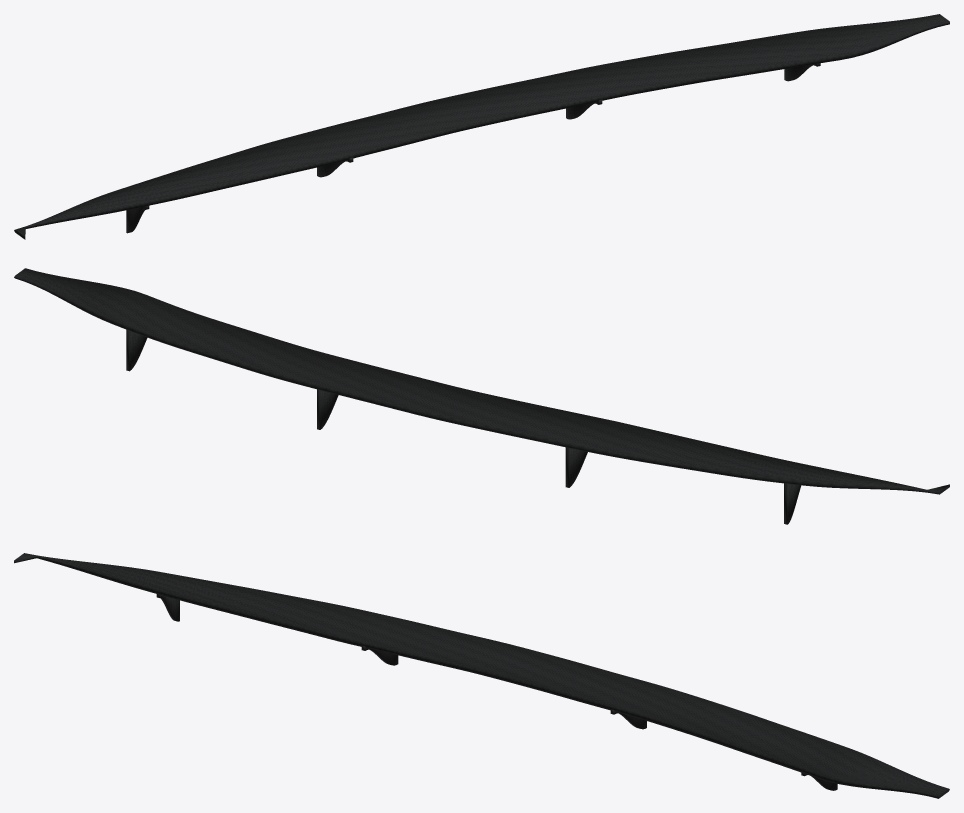
File: RA49_carbon_track_valance.glb
3 views of the same model, one above another, from view 1: azimuth 30°, elevation 25°; view 2: azimuth 150°, elevation 25°; view 3: azimuth 330°, elevation 25° (orthographic).
Visible parts, largest first — view 1: MOD_NA_RA49_blade; view 2: MOD_NA_RA49_blade, MOD_NA_RA49_strake_1, MOD_NA_RA49_strake_3, MOD_NA_RA49_strake_2; view 3: MOD_NA_RA49_blade.
Part boxes in pixels (<box>): MOD_NA_RA49_blade: <box>14,14,949,239</box>; MOD_NA_RA49_blade: <box>14,268,949,494</box>; MOD_NA_RA49_strake_1: <box>565,447,587,487</box>; MOD_NA_RA49_strake_3: <box>126,329,147,371</box>; MOD_NA_RA49_strake_2: <box>317,389,338,429</box>; MOD_NA_RA49_blade: <box>14,553,949,798</box>.
Bounding box in the file's own units: 1.04 × 0.0618 × 0.1065.
Materials: 1 (1 with a texture image).
